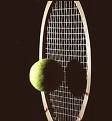tennis ball: (29, 55, 65, 94)
